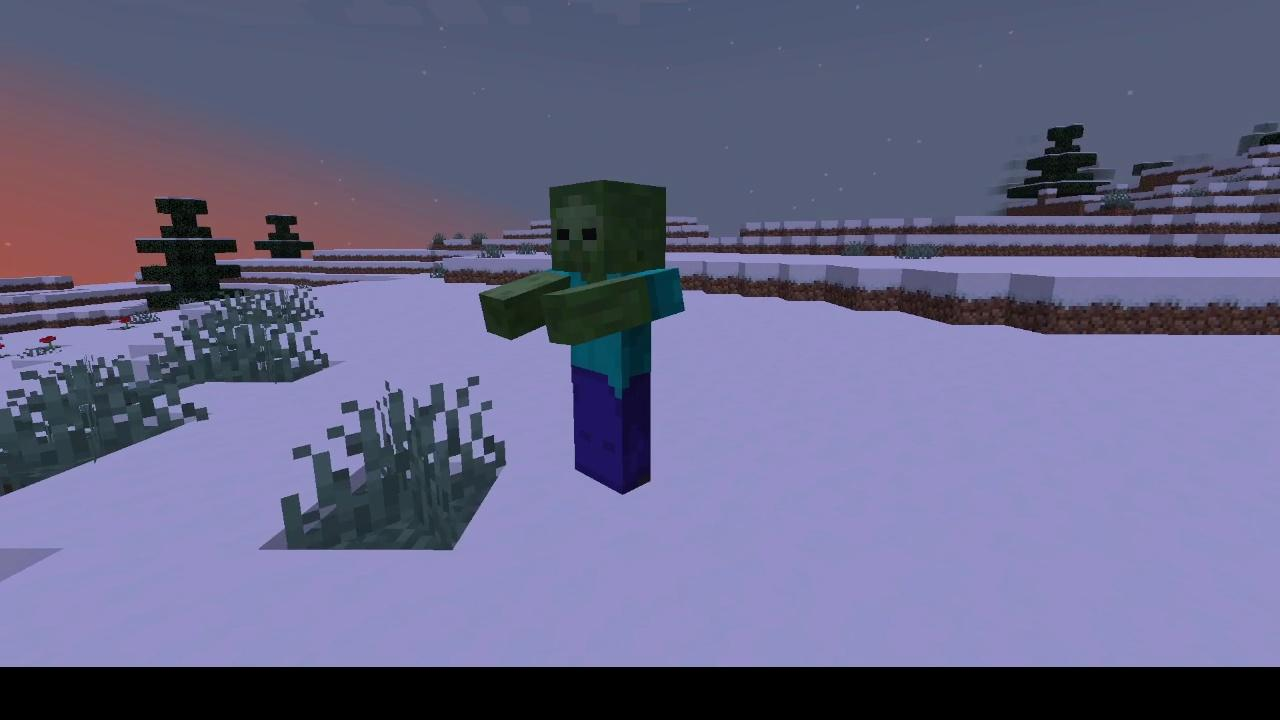zombie: (471, 174, 693, 501)
